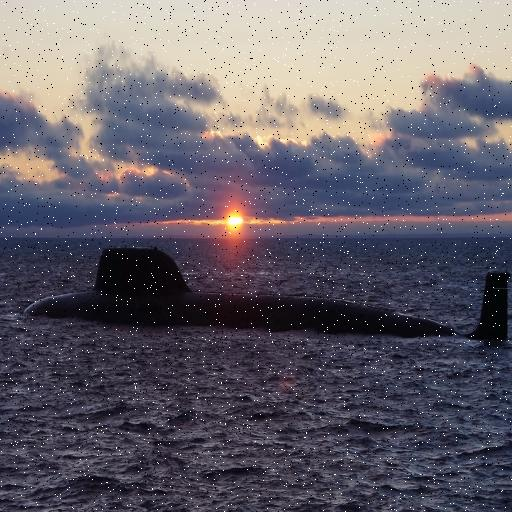submarine: (22, 242, 512, 338)
